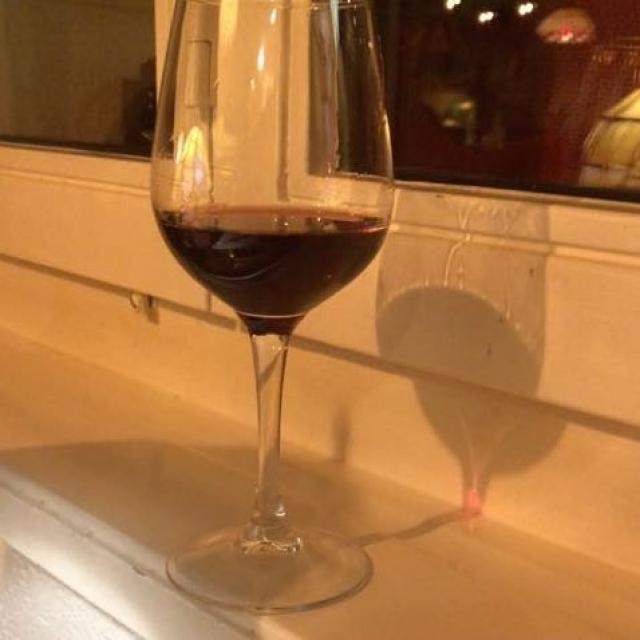wine: (150, 200, 386, 341)
